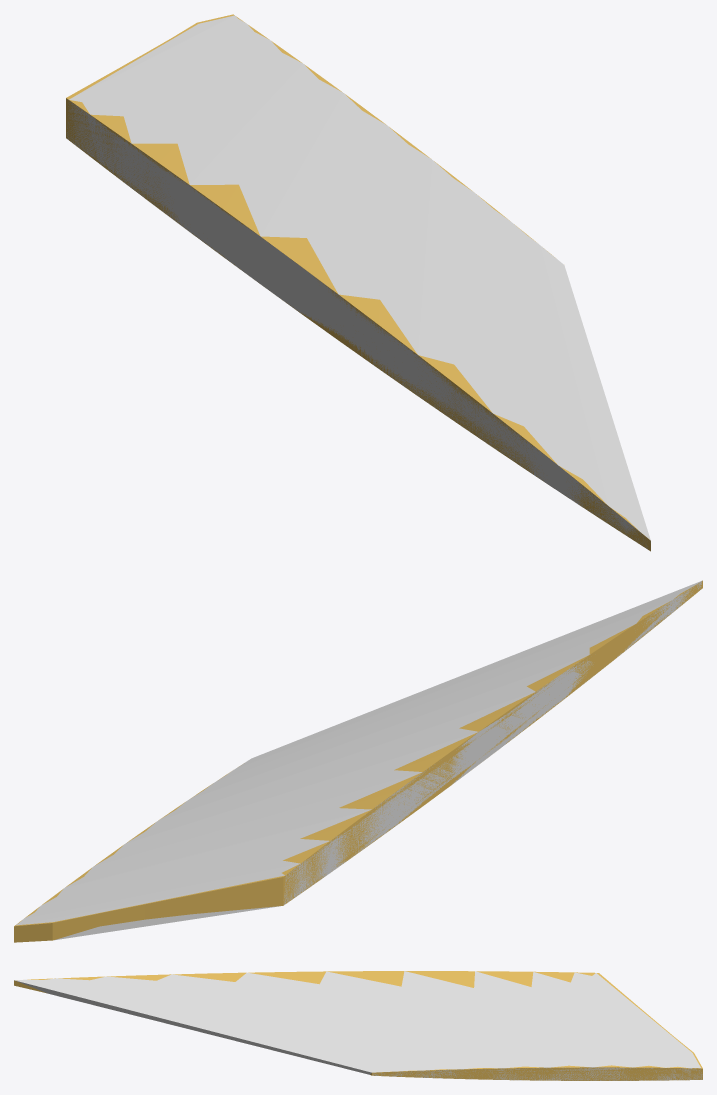
Rendered from fuel_strake_L.fbx.
3 renders of one model, top to bottom at view 1: azimuth 30°, elevation 25°; view 2: azimuth 150°, elevation 25°; view 3: azimuth 270°, elevation 25°, orthographic. The views are drawn at different scales.
Parts seen in each view (by area): view 1: fuel_strake_L_colmesh0, fuel_strake_L; view 2: fuel_strake_L_colmesh0, fuel_strake_L; view 3: fuel_strake_L_colmesh0, fuel_strake_L.
Part boxes in pixels (box(x1,y1,x2,y2)): fuel_strake_L_colmesh0: box(67, 15, 650, 549); fuel_strake_L: box(66, 14, 650, 551); fuel_strake_L_colmesh0: box(16, 581, 701, 940); fuel_strake_L: box(14, 580, 702, 942); fuel_strake_L_colmesh0: box(15, 971, 702, 1080); fuel_strake_L: box(14, 971, 702, 1080).
Size of what is drawn, in the model's own units: 0.78 by 0.2404 by 3.43.
